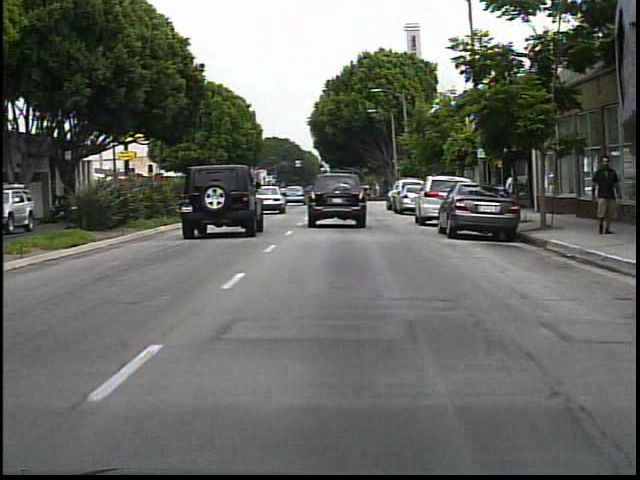person: (586, 153, 625, 240), (500, 164, 523, 218)
